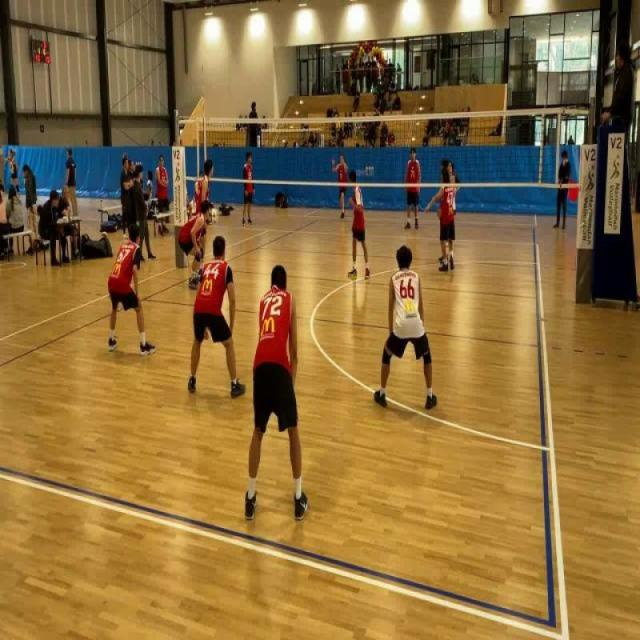volleyball: (335, 121, 340, 132), (101, 231, 107, 239)
